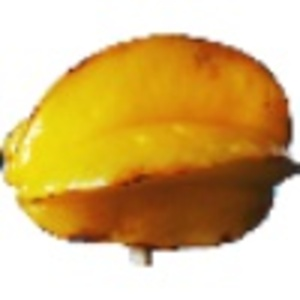carambola: (1, 32, 300, 269)
